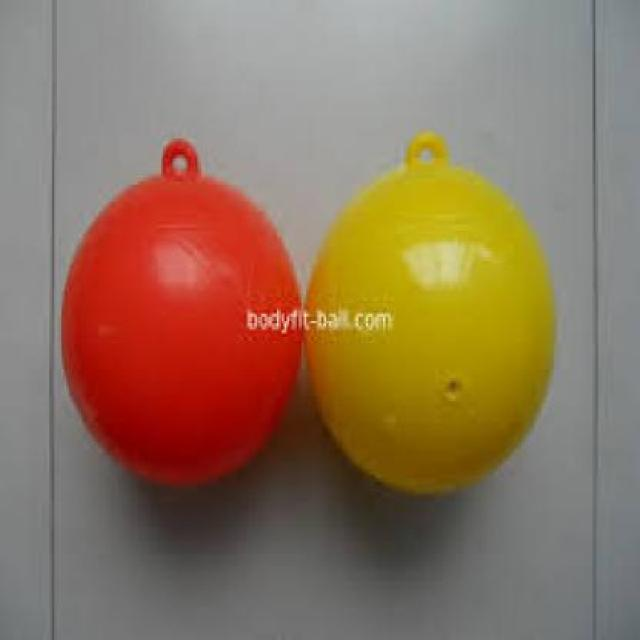a: (310, 114, 574, 354), (56, 116, 308, 354)
